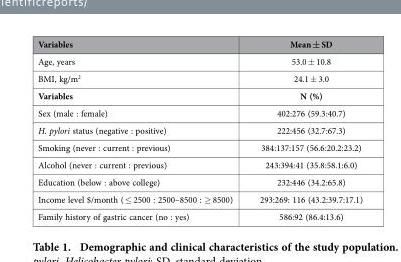table: (37, 37, 361, 222)
table column: (37, 37, 245, 222), (245, 37, 361, 222)
table column header: (37, 37, 361, 52)
table row: (37, 86, 361, 104), (37, 155, 361, 173), (37, 52, 361, 69), (37, 69, 361, 86), (37, 104, 361, 121), (37, 121, 361, 138), (37, 138, 361, 155), (37, 173, 361, 190), (37, 190, 361, 207), (37, 37, 361, 52), (37, 207, 361, 222)
